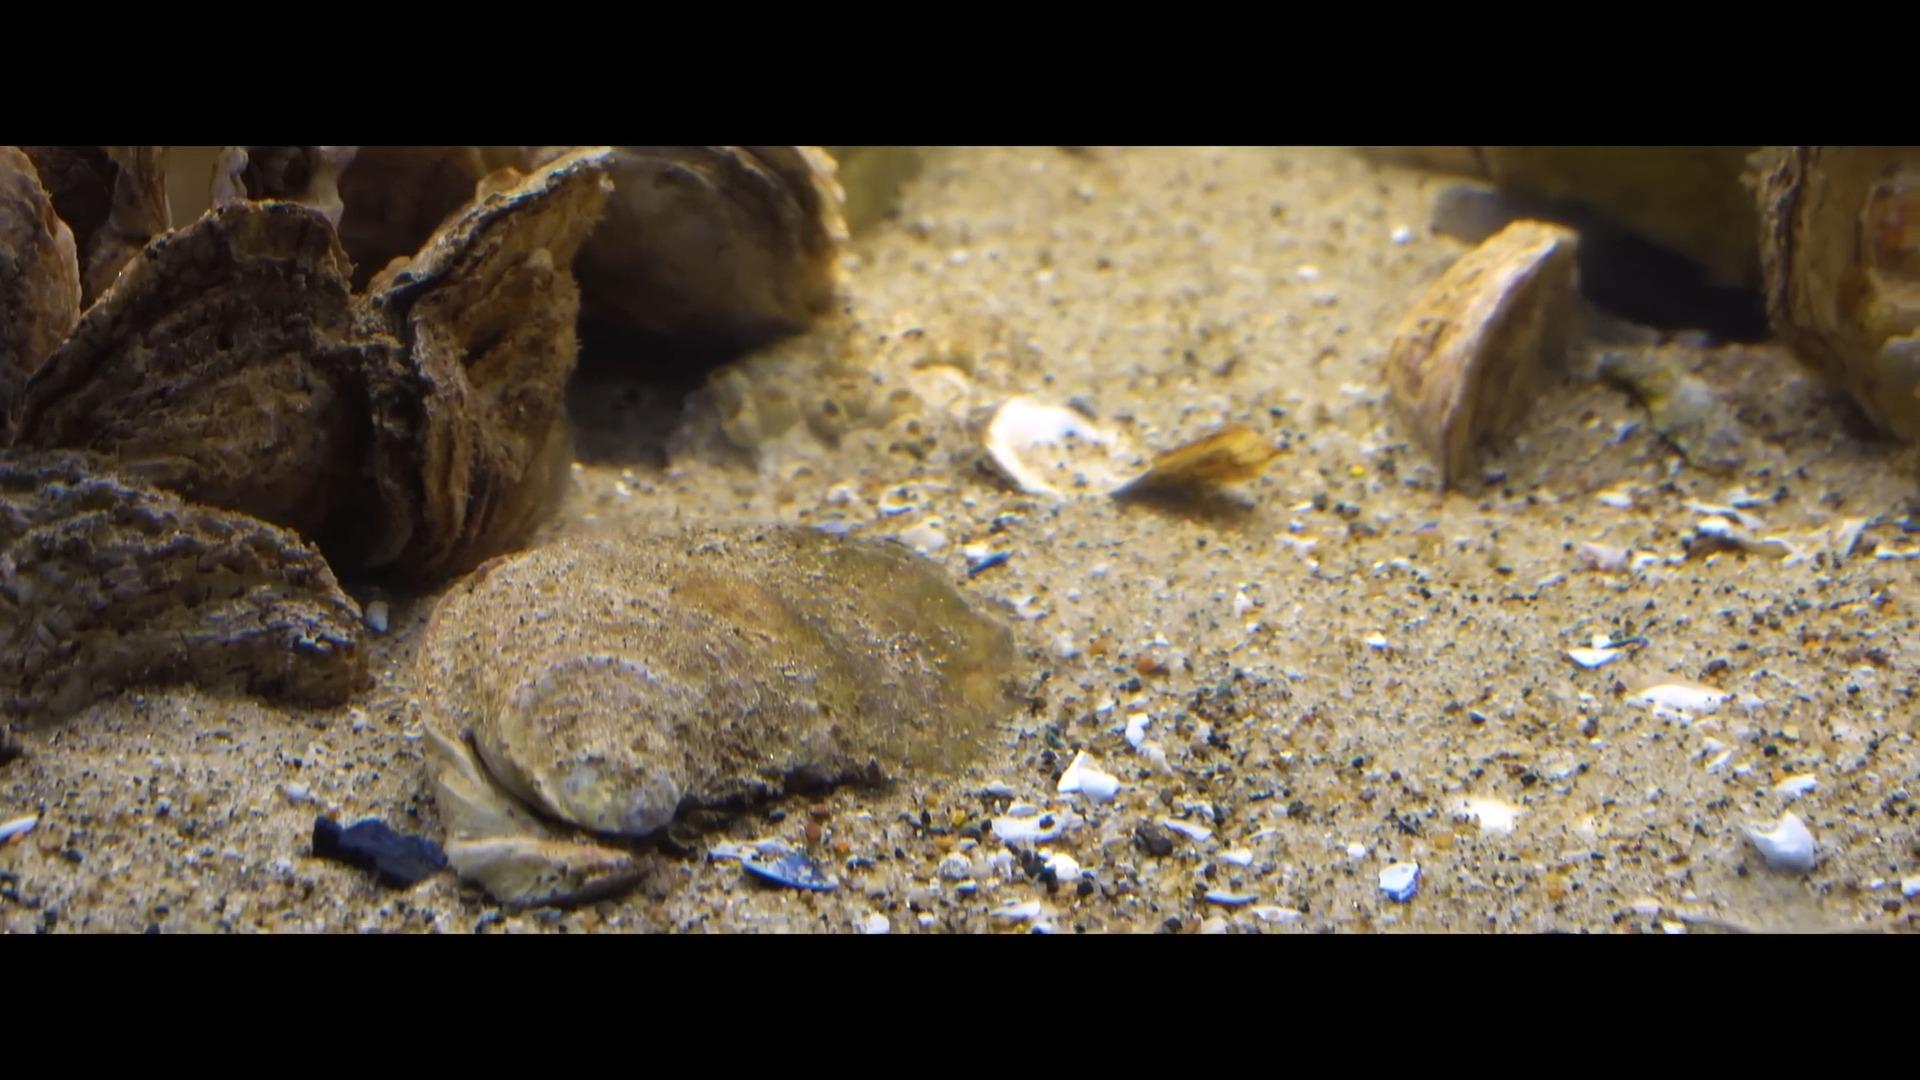Oyster: (404, 527, 1019, 903), (12, 193, 371, 541), (345, 153, 622, 578), (0, 456, 361, 727), (542, 145, 844, 351), (1385, 220, 1576, 484), (1754, 149, 1919, 444), (1604, 352, 1742, 465), (980, 394, 1127, 500), (1106, 425, 1286, 508)
